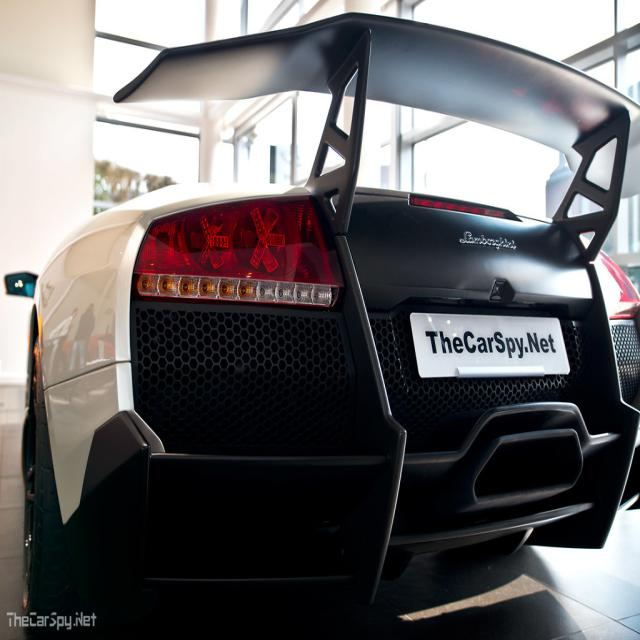car: (24, 40, 639, 627)
